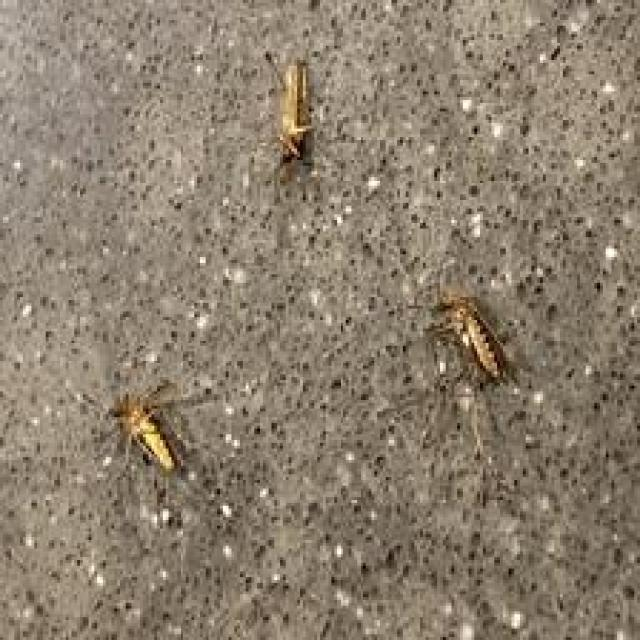Culex: (428, 291, 512, 386)
